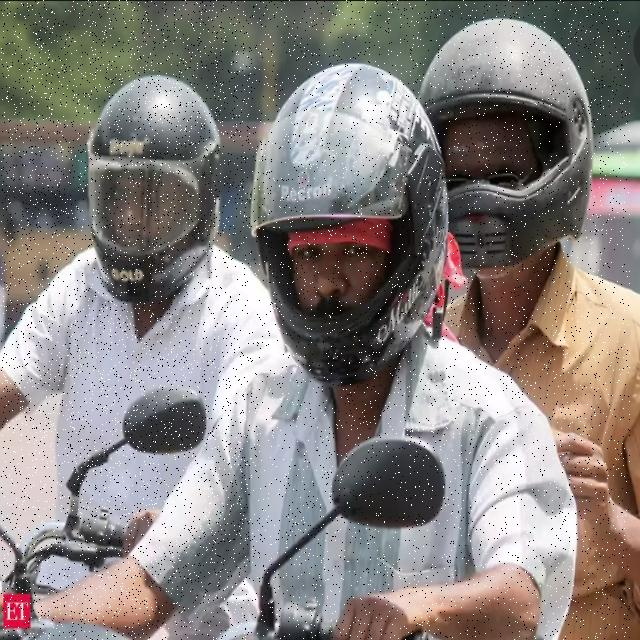With Helmet: (249, 0, 630, 640), (1, 0, 265, 640)
